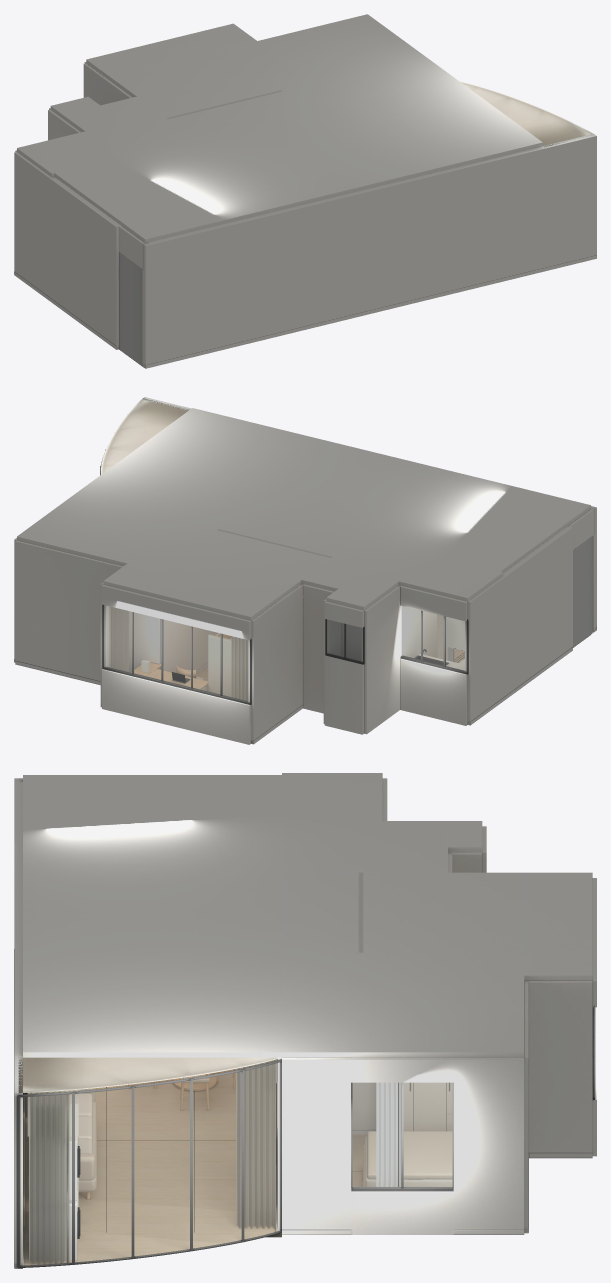
File: home-baked.glb
The picture shows the model from 3 angles, top to bottom: view 1: azimuth 30°, elevation 25°; view 2: azimuth 150°, elevation 25°; view 3: azimuth 270°, elevation 25°; orthographic projection. The views are drawn at different scales.
Visible parts, largest first — view 1: baked_architecture, baked_ceiling, baked_second, baked_bath; view 2: baked_ceiling, baked_second, baked_architecture, baked_master, baked_bath, 次卧窗玻璃.001, baked_kitchen, 厨房窗玻璃.001, 卫浴高窗玻璃.001; view 3: baked_ceiling, baked_master, baked_architecture, baked_soft, 主卧窗玻璃.001, 曲边窗玻璃.013, 曲边窗玻璃.010, 曲边窗玻璃.014, 曲边窗玻璃.017, 曲边窗玻璃.009, 曲边窗玻璃.011, 曲边窗玻璃.012 (+17 smaller).
Boxes of the visible parts, left/top/right/bottom form: baked_architecture: left=14, top=133, right=596, bottom=368; baked_ceiling: left=17, top=14, right=592, bottom=242; baked_second: left=83, top=62, right=132, bottom=105; baked_bath: left=48, top=108, right=80, bottom=140; baked_ceiling: left=17, top=398, right=590, bottom=620; baked_second: left=102, top=584, right=303, bottom=744; baked_architecture: left=100, top=397, right=596, bottom=725; baked_master: left=14, top=538, right=218, bottom=707; baked_bath: left=303, top=584, right=436, bottom=734; 次卧窗玻璃.001: left=104, top=605, right=249, bottom=701; baked_kitchen: left=398, top=585, right=468, bottom=725; 厨房窗玻璃.001: left=402, top=606, right=466, bottom=671; 卫浴高窗玻璃.001: left=327, top=620, right=362, bottom=661; baked_ceiling: left=18, top=773, right=592, bottom=1093; baked_master: left=277, top=980, right=592, bottom=1234; baked_architecture: left=14, top=778, right=281, bottom=1268; baked_soft: left=27, top=1059, right=275, bottom=1263; 主卧窗玻璃.001: left=352, top=1083, right=452, bottom=1187; 曲边窗玻璃.013: left=103, top=1090, right=117, bottom=1259; 曲边窗玻璃.010: left=148, top=1085, right=162, bottom=1254; 曲边窗玻璃.014: left=88, top=1092, right=102, bottom=1260; 曲边窗玻璃.017: left=45, top=1095, right=58, bottom=1263; 曲边窗玻璃.009: left=163, top=1083, right=176, bottom=1252; 曲边窗玻璃.011: left=134, top=1087, right=147, bottom=1255; 曲边窗玻璃.012: left=118, top=1089, right=131, bottom=1257.
Bounding box in the file's own units: 10.28 × 2.79 × 7.98.
Materials: 25 (9 with a texture image).
